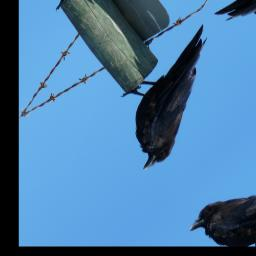Crow: (99, 20, 249, 178)
